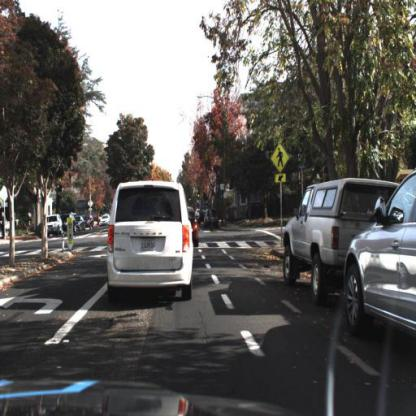car: (344, 160, 416, 373), (282, 178, 404, 294), (106, 182, 196, 302), (182, 204, 200, 250), (243, 199, 268, 226), (42, 213, 65, 238), (58, 212, 77, 237), (204, 207, 222, 232), (204, 208, 220, 231), (99, 214, 113, 227)
pedestrian: (205, 203, 215, 235), (207, 205, 214, 236)
